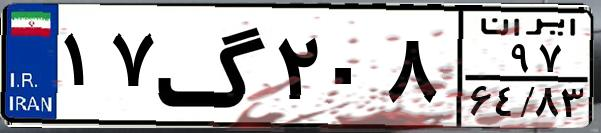0: (330, 28, 385, 110)
1: (57, 26, 110, 100)
2: (270, 28, 330, 110)
3: (560, 70, 590, 125)
4: (495, 70, 520, 125)
6: (470, 70, 495, 125)
7: (110, 28, 156, 98), (537, 27, 568, 80)
8: (385, 28, 445, 110), (535, 70, 560, 125)
9: (508, 27, 537, 80)
گ: (156, 12, 270, 120)
